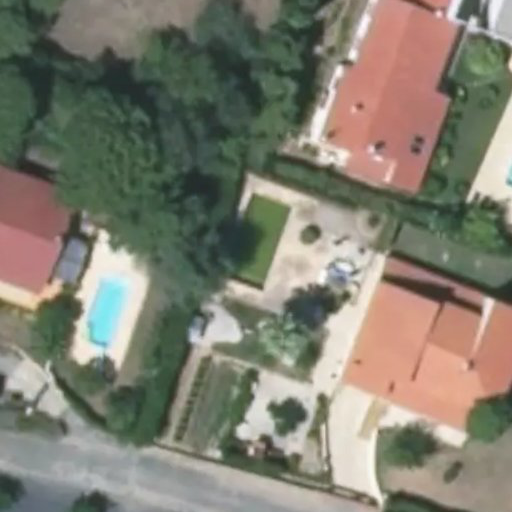pool: (226, 193, 294, 296), (90, 281, 130, 346)
